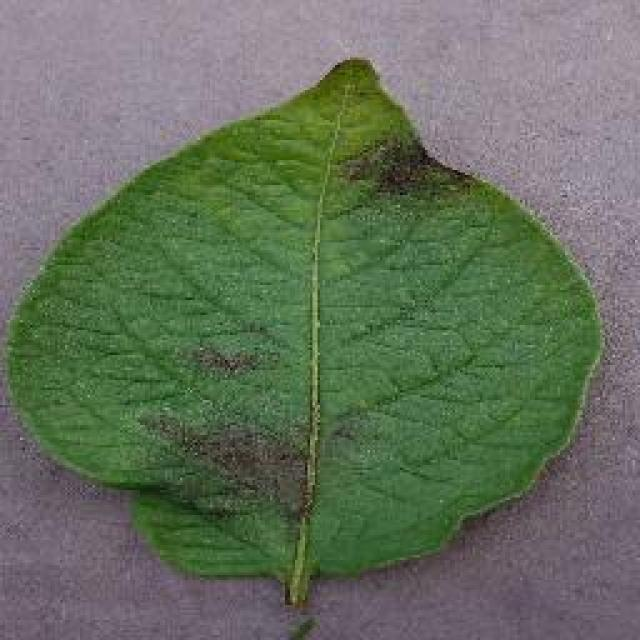late_blight: (0, 53, 608, 605)
